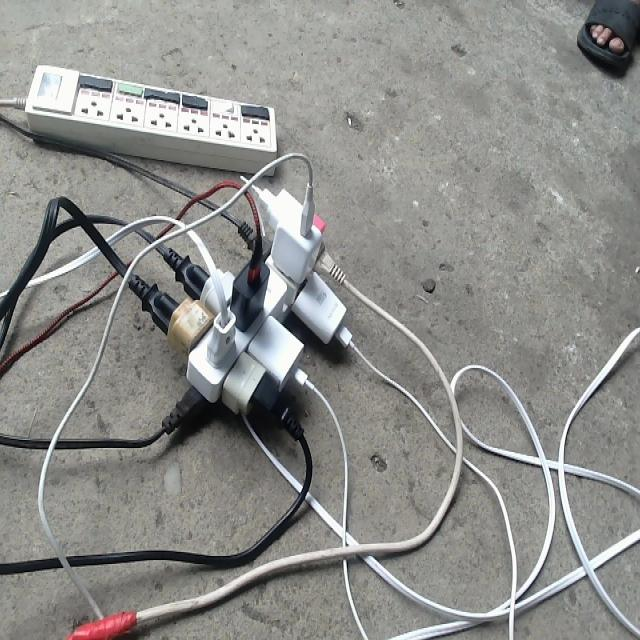-: (146, 166, 357, 434)
